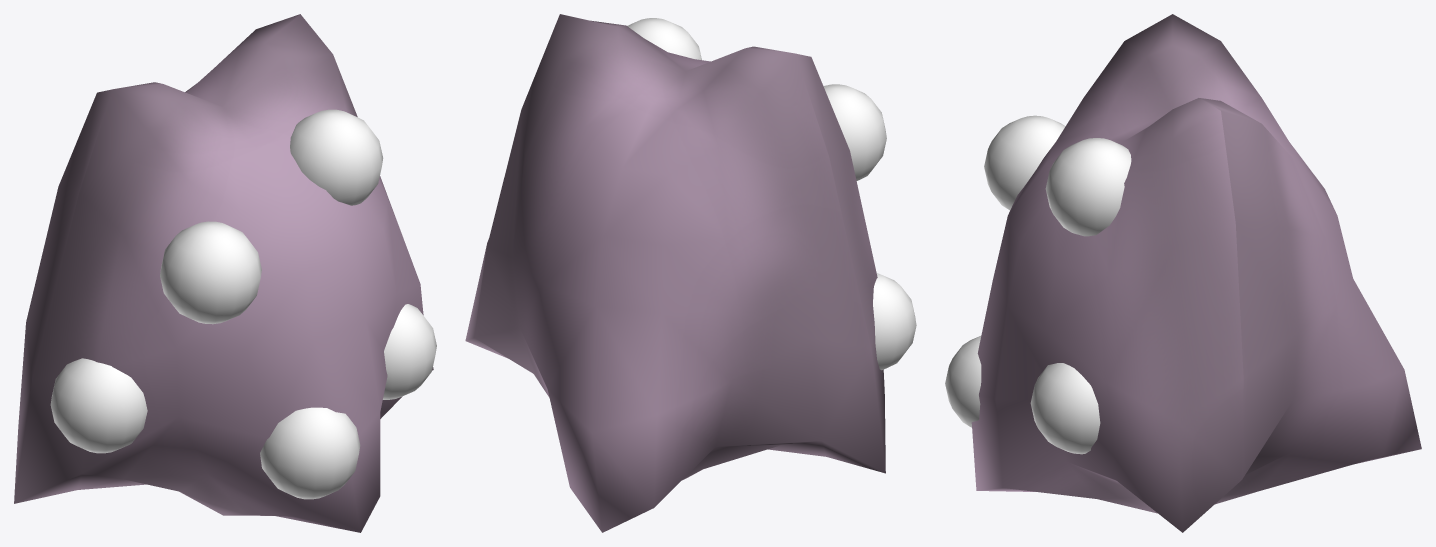
The model's file is syougai.fbx.
3 views of the same model, side by side, from view 1: azimuth 30°, elevation 25°; view 2: azimuth 150°, elevation 25°; view 3: azimuth 270°, elevation 25° (orthographic).
Visible parts, largest first — view 1: pSphere1, pSphere2, pSphere6, pSphere4, pSphere5, pSphere3; view 2: pSphere1, pSphere2, pSphere4, pSphere5; view 3: pSphere1, pSphere5, pSphere3, pSphere2, pSphere6.
Boxes of the visible parts, bbox=[...] form: pSphere1: bbox=[14, 14, 433, 532]; pSphere2: bbox=[160, 221, 261, 324]; pSphere6: bbox=[260, 407, 360, 499]; pSphere4: bbox=[50, 358, 147, 453]; pSphere5: bbox=[290, 109, 383, 205]; pSphere3: bbox=[383, 304, 436, 399]; pSphere1: bbox=[465, 14, 885, 532]; pSphere2: bbox=[823, 84, 886, 180]; pSphere4: bbox=[873, 273, 916, 370]; pSphere5: bbox=[627, 18, 701, 59]; pSphere1: bbox=[971, 14, 1421, 532]; pSphere5: bbox=[1045, 138, 1131, 236]; pSphere3: bbox=[1030, 363, 1100, 454]; pSphere2: bbox=[984, 115, 1065, 210]; pSphere6: bbox=[945, 336, 981, 427].
Bounding box in the file's own units: 5.4 × 5.63 × 5.35.
Materials: 1 (1 with a texture image).
